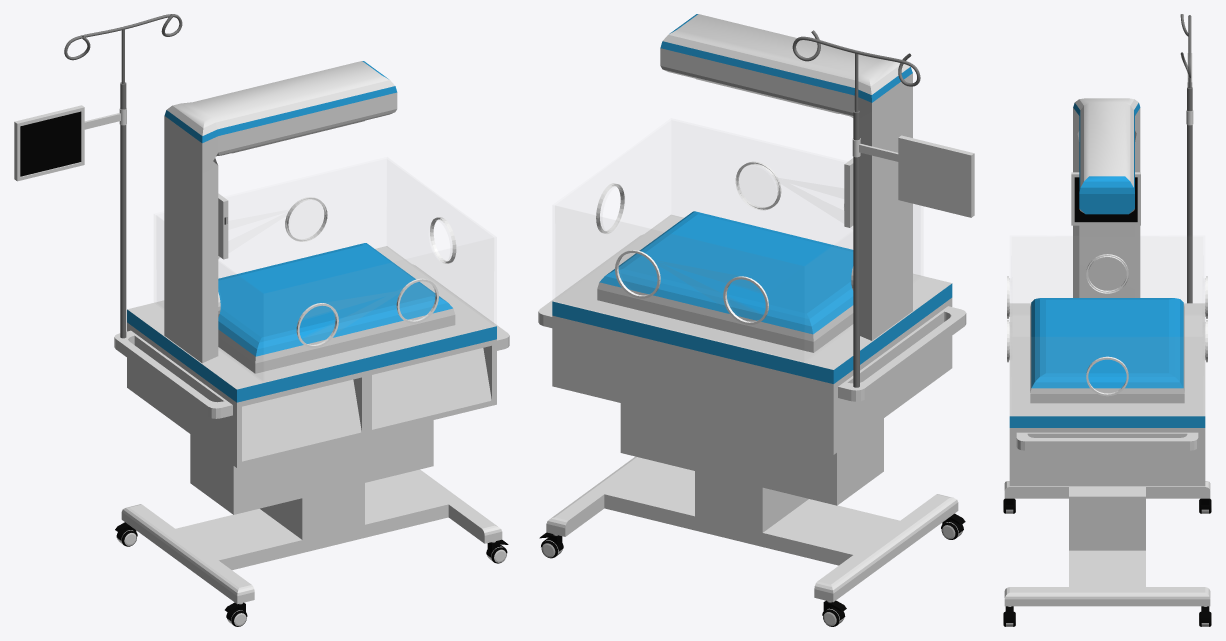
The picture shows the model from 3 angles, left to right: view 1: azimuth 30°, elevation 25°; view 2: azimuth 150°, elevation 25°; view 3: azimuth 270°, elevation 25°; orthographic projection. The views are drawn at different scales.
Visible parts, largest first — view 1: CI-3; view 2: CI-3; view 3: CI-3.
Boxes of the visible parts, x1,y1,x2,y2 form: CI-3: [14, 14, 509, 626]; CI-3: [538, 14, 974, 626]; CI-3: [1003, 14, 1211, 626].
Size of the model in its own units: 160 by 203 by 81.
